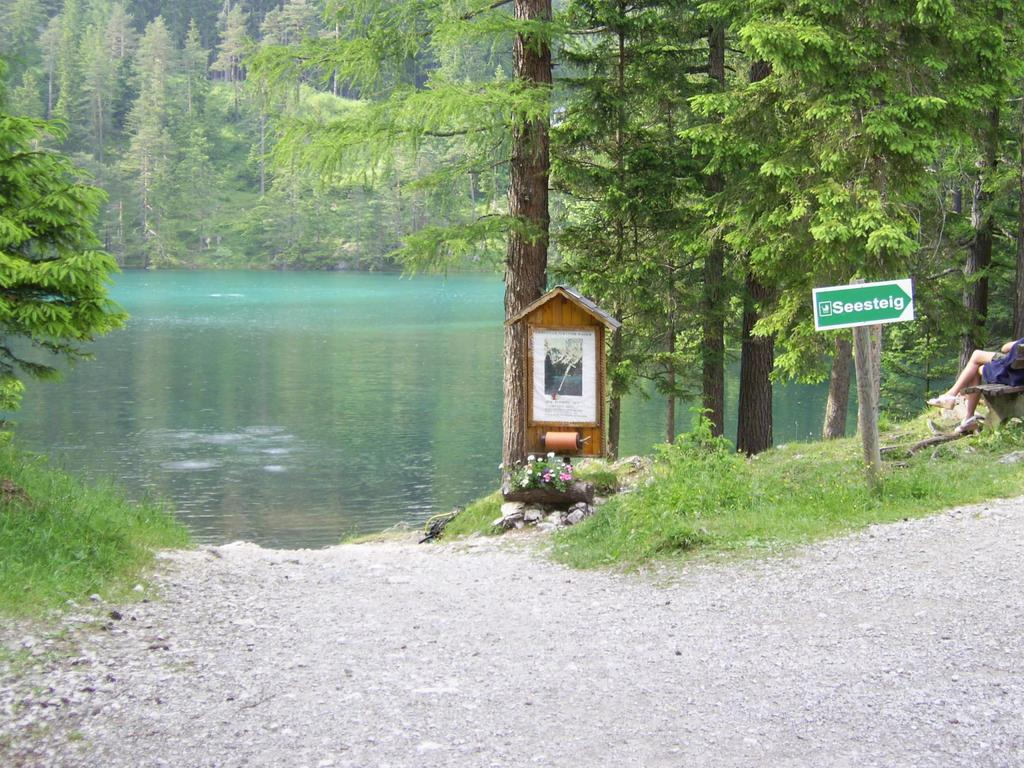Tree: (252, 0, 724, 490), (0, 0, 498, 273), (664, 0, 961, 455), (547, 0, 679, 465), (0, 88, 141, 446), (900, 0, 1023, 346), (865, 311, 947, 431)
